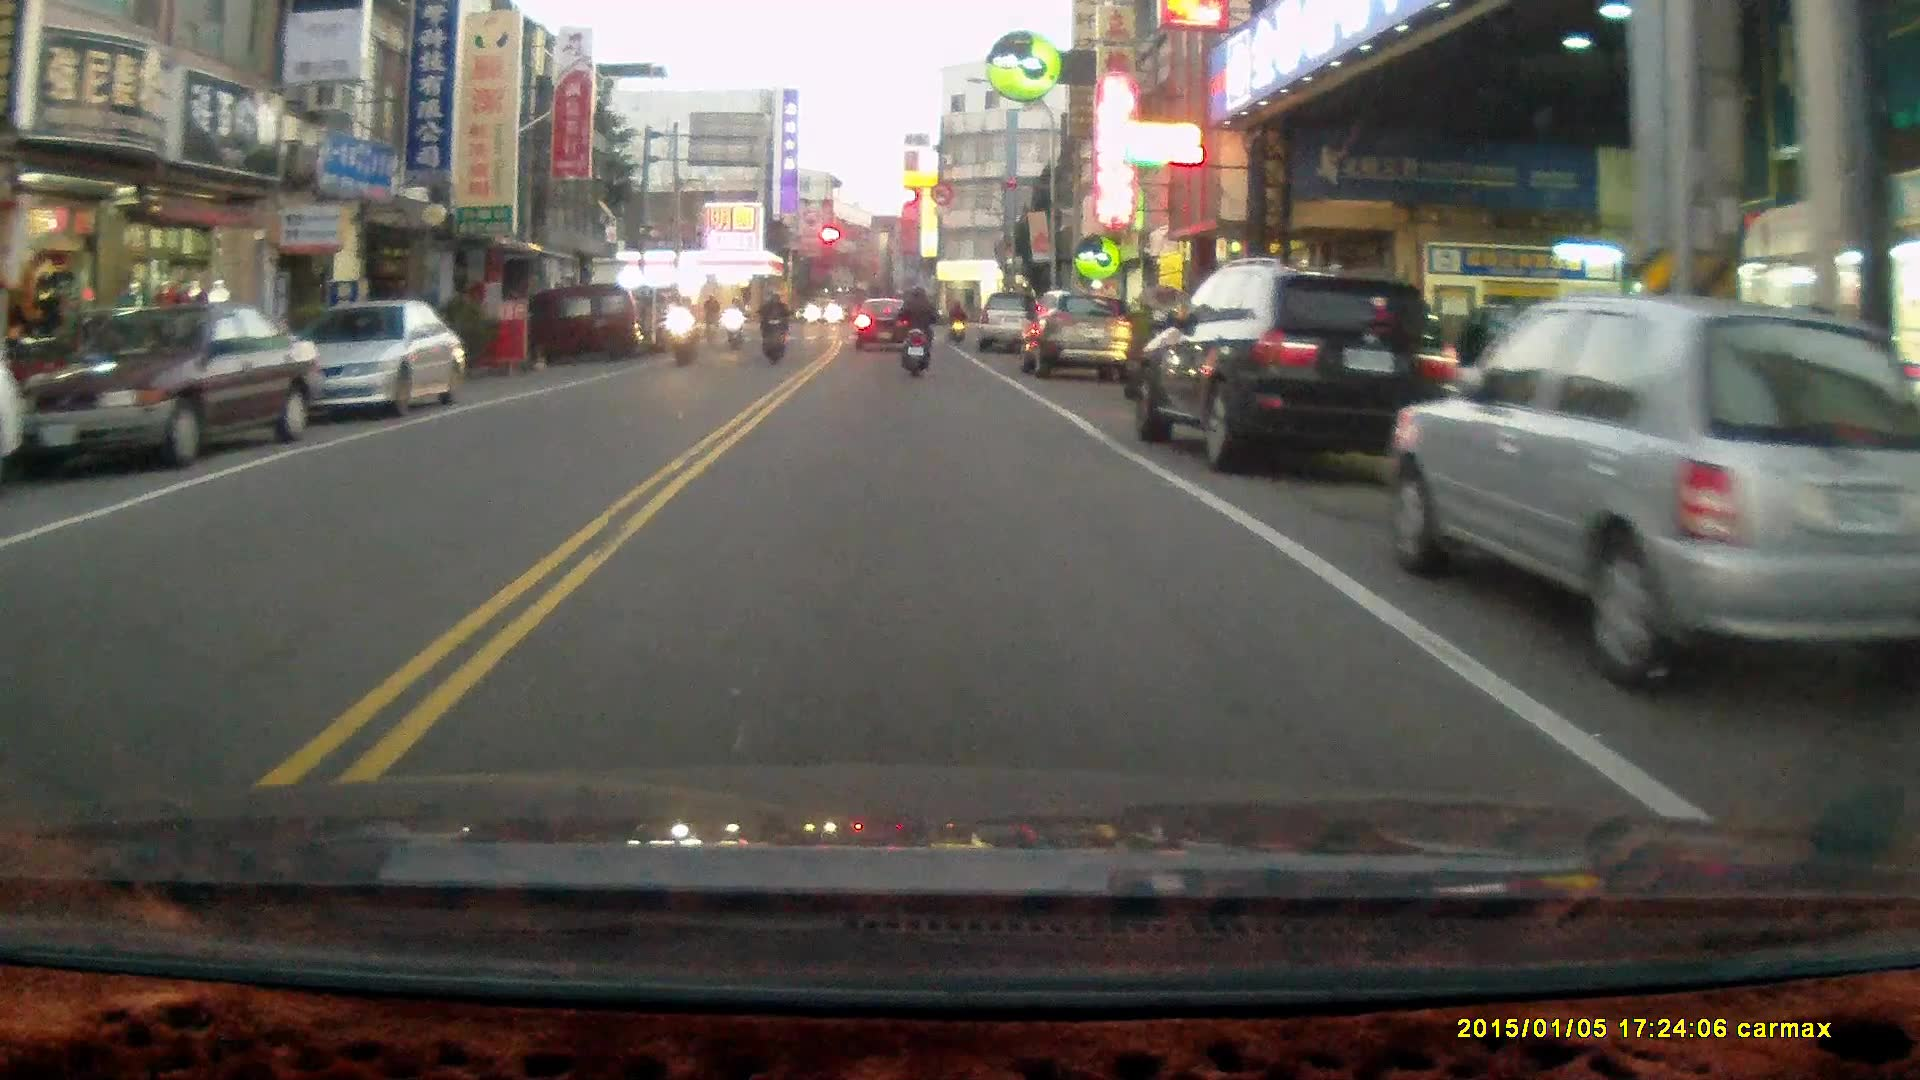pedestrian: (1453, 307, 1493, 426)
rider: (893, 283, 934, 379), (669, 291, 699, 368), (759, 290, 789, 365), (698, 290, 722, 349), (721, 295, 745, 351), (946, 300, 968, 344)
vehicle: (1387, 293, 1920, 700), (1141, 258, 1456, 474), (2, 300, 324, 465), (283, 299, 466, 421), (1018, 293, 1134, 377), (551, 284, 653, 357), (980, 290, 1052, 355)
